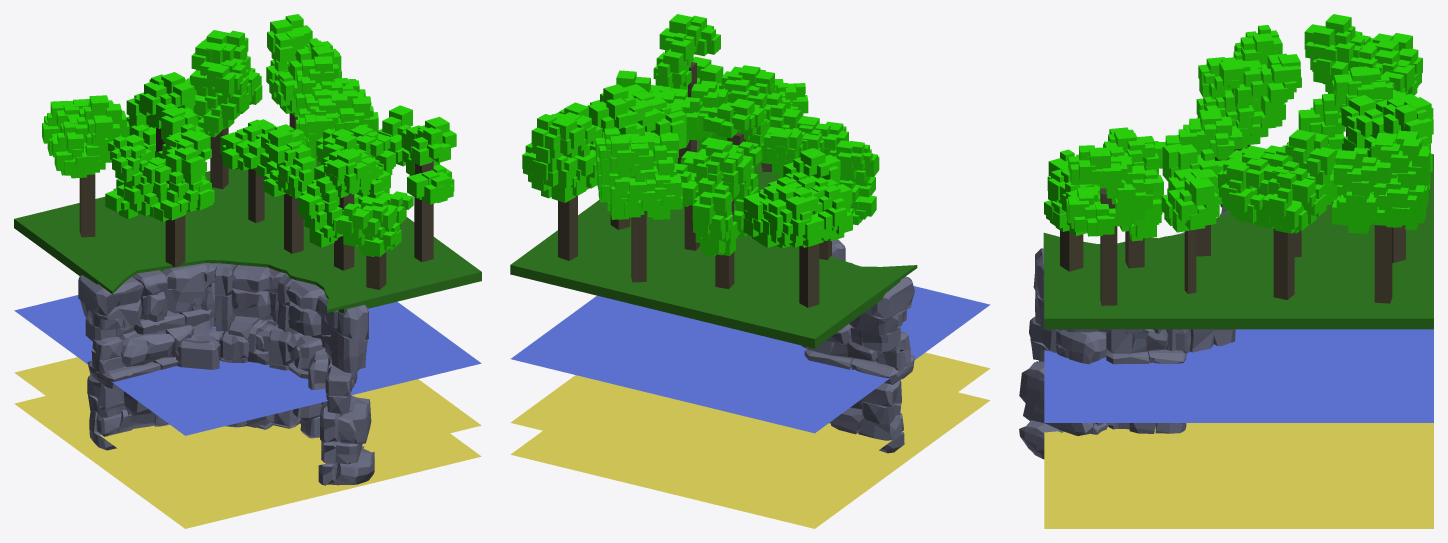
The model's file is 50__tile.fbx.
3 views of the same model, side by side, from view 1: azimuth 30°, elevation 25°; view 2: azimuth 150°, elevation 25°; view 3: azimuth 270°, elevation 25° (orthographic). The views are drawn at different scales.
Visible parts, largest first — view 1: 50__tile; view 2: 50__tile; view 3: 50__tile.
Boxes of the visible parts, x1,y1,x2,y2 form: 50__tile: [14, 14, 481, 528]; 50__tile: [510, 14, 990, 528]; 50__tile: [1019, 14, 1433, 528].
Size of the model in its own units: 205 by 211 by 213.
